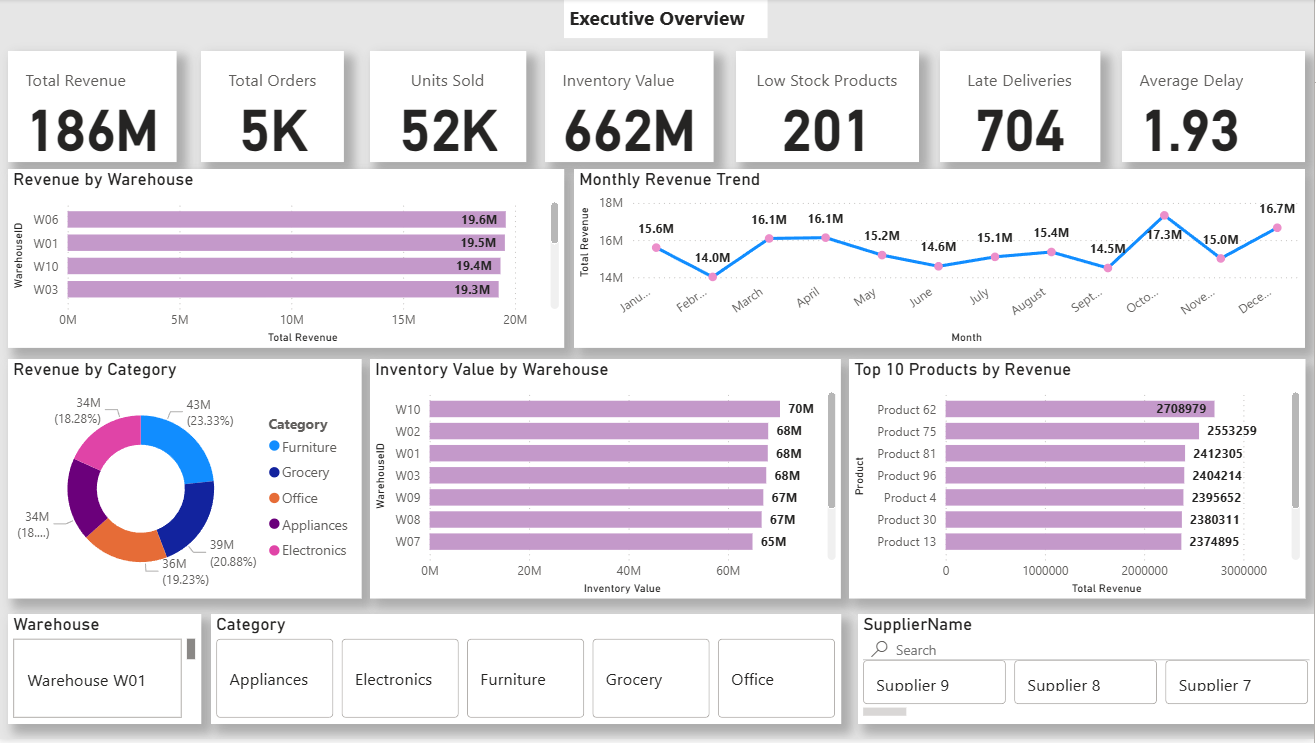

Layout of this report page (visuals, bound fields, positions):
{"tool":"powerbi","page":{"name":"Page 1","canvas":[1280,720],"ordinal":0},"visuals":[{"type":"cardVisual","fields":{"Data":["sales.Total Revenue"]},"box":[9.7,50.6,164.4,108],"z":0},{"type":"cardVisual","fields":{"Data":["inventory.Low Stock Products"]},"box":[717.8,50.6,178,108],"z":1000},{"type":"cardVisual","fields":{"Data":["deliveries.Average Delay"]},"box":[1093.3,50.6,178,108],"z":2000},{"type":"cardVisual","fields":{"Data":["orders.Total Orders"]},"box":[197.4,50.6,139.1,108],"z":3000},{"type":"cardVisual","fields":{"Data":["inventory.Inventory Value"]},"box":[532,50.6,164.4,108],"z":4000},{"type":"cardVisual","fields":{"Data":["deliveries.Late Deliveries"]},"box":[916.2,50.6,155.6,108],"z":5000},{"type":"cardVisual","fields":{"Data":["sales.Units Sold"]},"box":[361.8,50.6,151.7,108],"z":6000},{"type":"clusteredBarChart","title":"Revenue by Warehouse","fields":{"Category":["warehouses.WarehouseID"],"Y":["sales.Total Revenue"]},"box":[9.7,165.3,540.8,174.1],"z":7000},{"type":"donutChart","title":"Revenue by Category","fields":{"Category":["products.Category"],"Y":["sales.Total Revenue"]},"box":[9.7,350.2,344.3,233.4],"z":8000},{"type":"lineChart","title":"Monthly Revenue Trend","fields":{"Y":["sales.Total Revenue"],"Category":["DateTable.Month"]},"box":[560.2,165.3,711,174.1],"z":9000},{"type":"clusteredBarChart","title":"Inventory Value by Warehouse","fields":{"Category":["warehouses.WarehouseID"],"Y":["inventory.Inventory Value"]},"box":[361.8,350.2,458.1,233.4],"z":10000},{"type":"clusteredBarChart","title":"Top 10 Products by Revenue","fields":{"Category":["products.Product"],"Y":["sales.Total Revenue"]},"box":[827.7,350.2,443.5,233.4],"z":11000},{"type":"advancedSlicerVisual","fields":{"Values":["warehouses.Warehouse"]},"box":[9.7,598.2,187.7,107],"z":12000},{"type":"advancedSlicerVisual","fields":{"Values":["products.Category"]},"box":[207.2,598.2,612.8,107],"z":13000},{"type":"advancedSlicerVisual","fields":{"Values":["suppliers.SupplierName"]},"box":[836.5,598.2,443.5,107],"z":14000},{"type":"textbox","box":[550.5,0,198.4,37.9],"z":15000}]}

Visuals, with their boxes in screenshot pixels (x1, y1, x2, y2), scaled from the page's 1280x720 canvas onto the 1316x743 screenshot:
cardVisual - sales.Total Revenue: [10,52,179,164]
cardVisual - inventory.Low Stock Products: [738,52,921,164]
cardVisual - deliveries.Average Delay: [1124,52,1307,164]
cardVisual - orders.Total Orders: [203,52,346,164]
cardVisual - inventory.Inventory Value: [547,52,716,164]
cardVisual - deliveries.Late Deliveries: [942,52,1102,164]
cardVisual - sales.Units Sold: [372,52,528,164]
"Revenue by Warehouse" clusteredBarChart: [10,171,566,350]
"Revenue by Category" donutChart: [10,361,364,602]
"Monthly Revenue Trend" lineChart: [576,171,1307,350]
"Inventory Value by Warehouse" clusteredBarChart: [372,361,843,602]
"Top 10 Products by Revenue" clusteredBarChart: [851,361,1307,602]
advancedSlicerVisual - warehouses.Warehouse: [10,617,203,728]
advancedSlicerVisual - products.Category: [213,617,843,728]
advancedSlicerVisual - suppliers.SupplierName: [860,617,1315,728]
textbox: [566,0,770,39]
